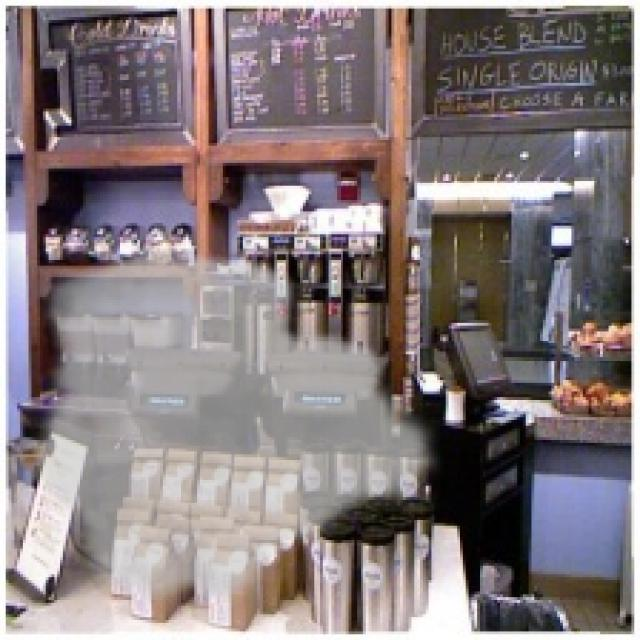smoke: (28, 243, 446, 614)
